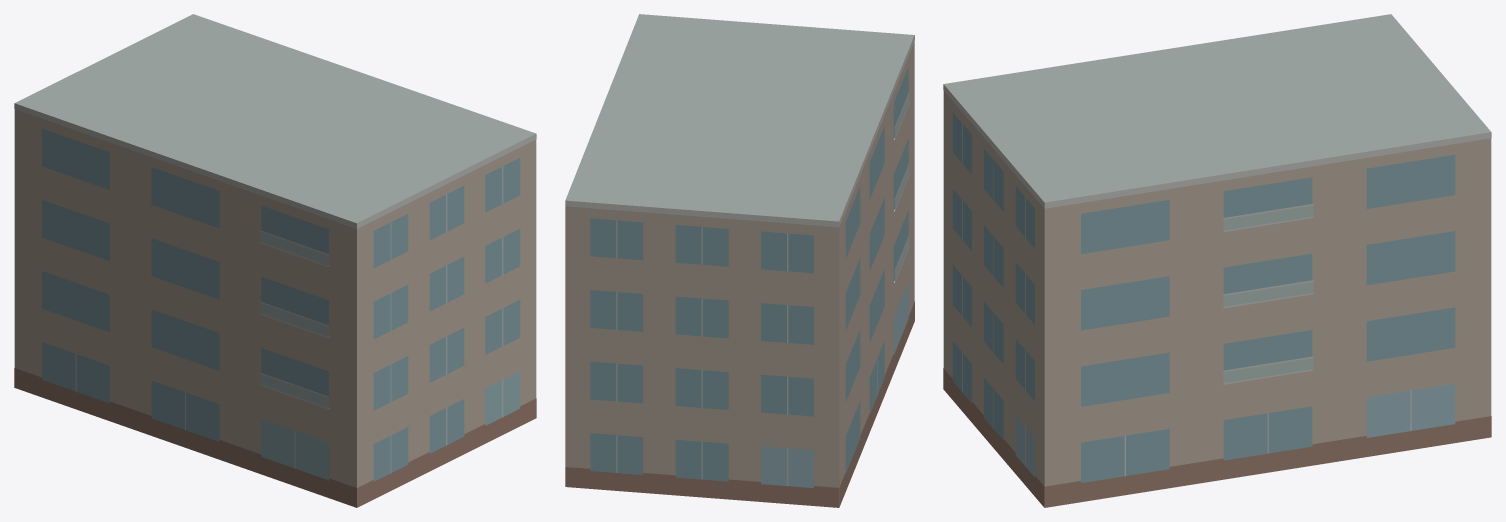
The model's file is survey-upis-32867608.glb.
The picture shows the model from 3 angles, left to right: view 1: azimuth 30°, elevation 25°; view 2: azimuth 150°, elevation 25°; view 3: azimuth 270°, elevation 25°; orthographic projection. The views are drawn at different scales.
Parts seen in each view (by area): view 1: survey-upis-32867608.tmp; view 2: survey-upis-32867608.tmp; view 3: survey-upis-32867608.tmp.
Boxes of the visible parts, <box> form: survey-upis-32867608.tmp: <box>14,14,536,507</box>; survey-upis-32867608.tmp: <box>565,14,914,507</box>; survey-upis-32867608.tmp: <box>943,14,1491,507</box>.
Bounding box in the file's own units: 16.18 × 12.2 × 19.86.
